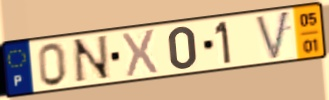0: (36, 40, 69, 89), (166, 25, 199, 71)
1: (213, 20, 234, 66)
N: (70, 33, 113, 86)
V: (253, 8, 293, 62)
X: (120, 27, 159, 79)
